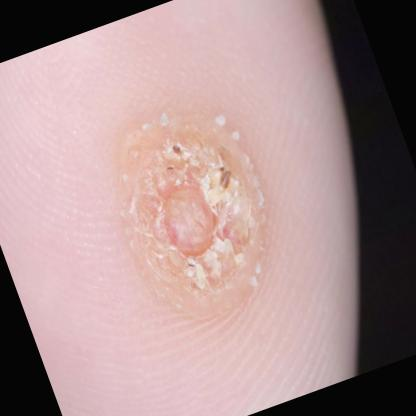Warts: (84, 82, 310, 354)
